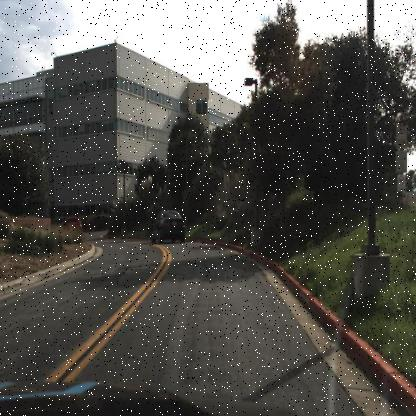car: (149, 206, 185, 245), (58, 215, 84, 234)
